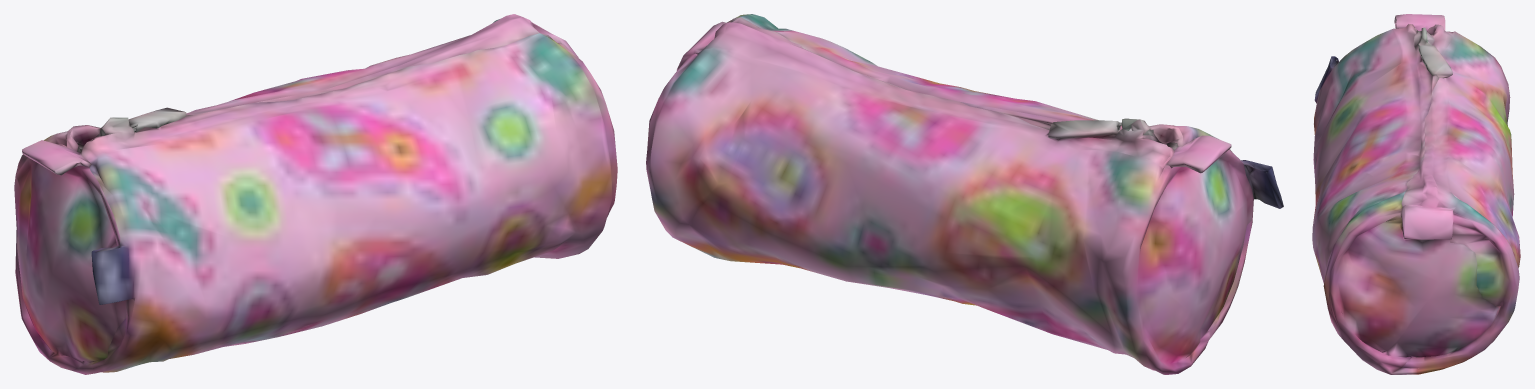
The model's file is Olive_Kids_Paisley_Pencil_Case-medium.glb.
3 views of the same model, side by side, from view 1: azimuth 30°, elevation 25°; view 2: azimuth 150°, elevation 25°; view 3: azimuth 270°, elevation 25° (orthographic). The views are drawn at different scales.
Visible parts, largest first — view 1: Olive_Kids_Paisley_Pencil_Case; view 2: Olive_Kids_Paisley_Pencil_Case; view 3: Olive_Kids_Paisley_Pencil_Case.
Part boxes in pixels (<box>): Olive_Kids_Paisley_Pencil_Case: <box>14,14,617,374</box>; Olive_Kids_Paisley_Pencil_Case: <box>646,14,1283,374</box>; Olive_Kids_Paisley_Pencil_Case: <box>1312,14,1520,374</box>.
Size of the model in its own units: 0.2137 by 0.0903 by 0.0913.
Materials: 1 (1 with a texture image).
